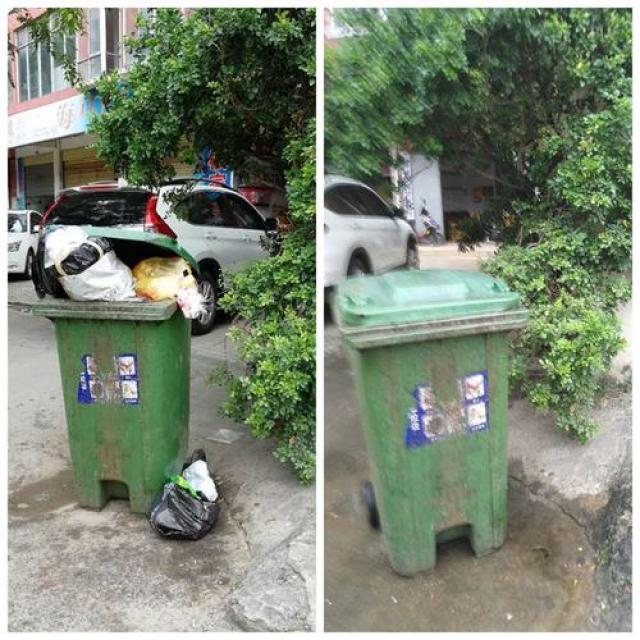garbage: (146, 445, 224, 539)
garbage_bin: (333, 267, 526, 574)
overflow: (21, 221, 202, 512)
